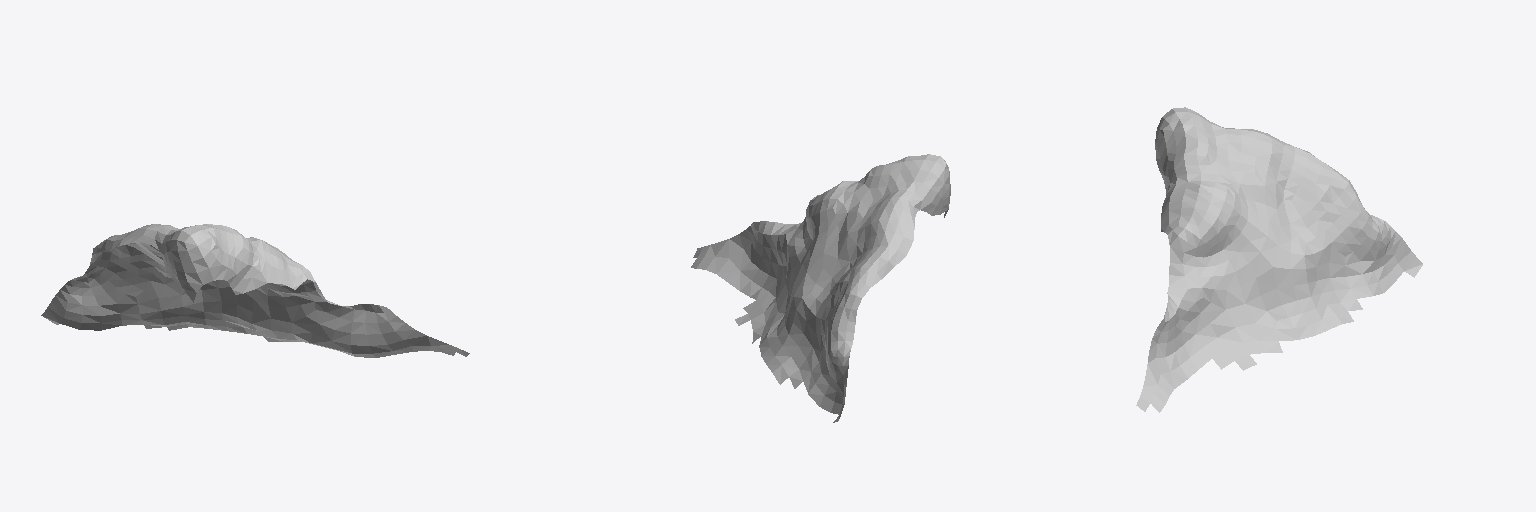
Rendered from texture mountain right.obj.
3 renders of one model, left to right at view 1: azimuth 30°, elevation 25°; view 2: azimuth 150°, elevation 25°; view 3: azimuth 270°, elevation 25°, orthographic.
Parts seen in each view (by area): view 1: polySurface12 polySurface10 polySurface8 polySurface7 mountain_m; view 2: polySurface12 polySurface10 polySurface8 polySurface7 mountain_m; view 3: polySurface12 polySurface10 polySurface8 polySurface7 mountain_m.
Boxes of the visible parts, box(x1,y1,x2,y2) form: polySurface12 polySurface10 polySurface8 polySurface7 mountain_m: box(41, 224, 469, 357); polySurface12 polySurface10 polySurface8 polySurface7 mountain_m: box(691, 154, 950, 422); polySurface12 polySurface10 polySurface8 polySurface7 mountain_m: box(1136, 107, 1422, 412).
Bounding box in the file's own units: 41.16 × 24.84 × 35.88.